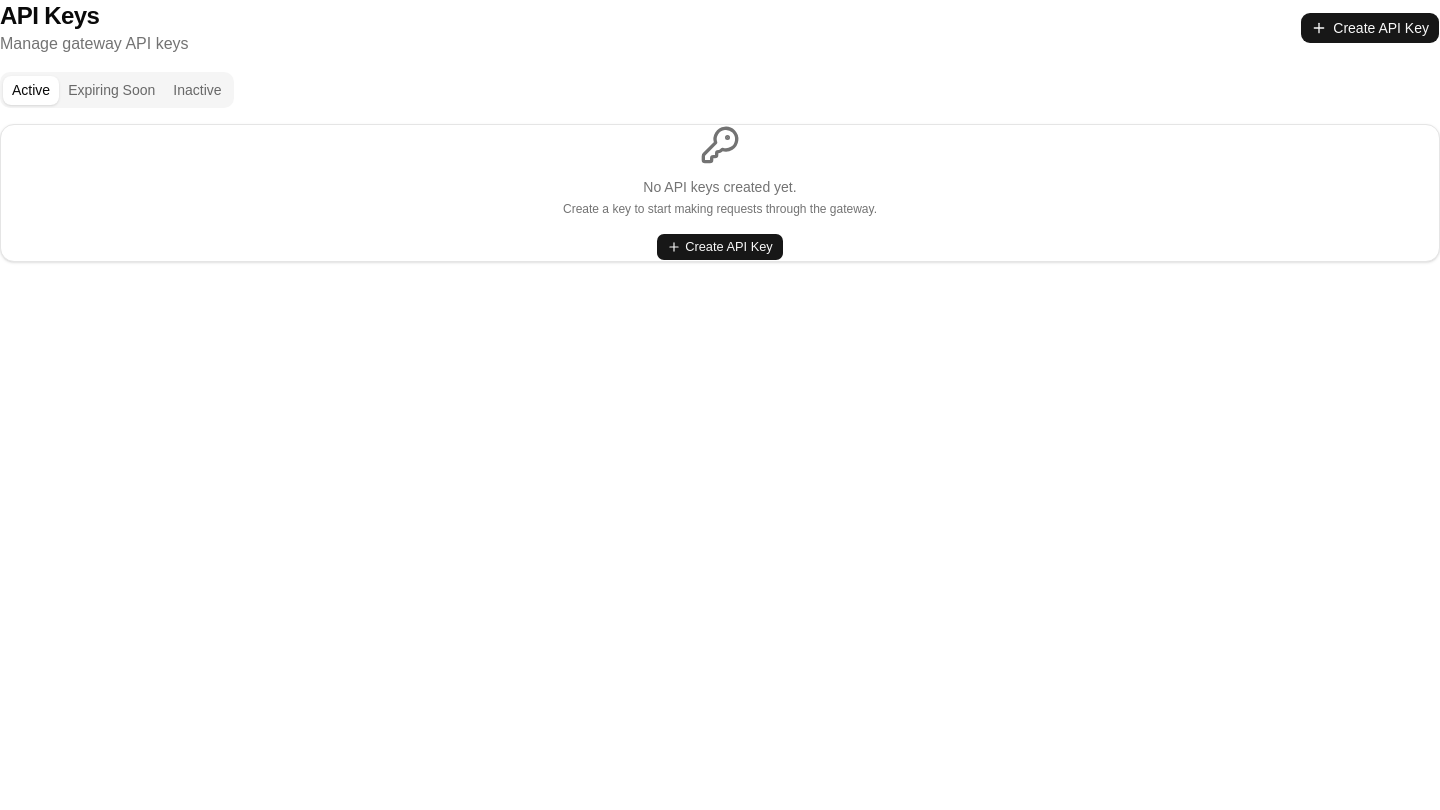
Test case: ApiKeysPage › create key dialog opens on button click
The width and height of the screenshot is (1440, 810).
Click the button "Create API Key" in the row of "Manage gateway API keys" at (1370, 28), box [1300, 12, 1439, 44]
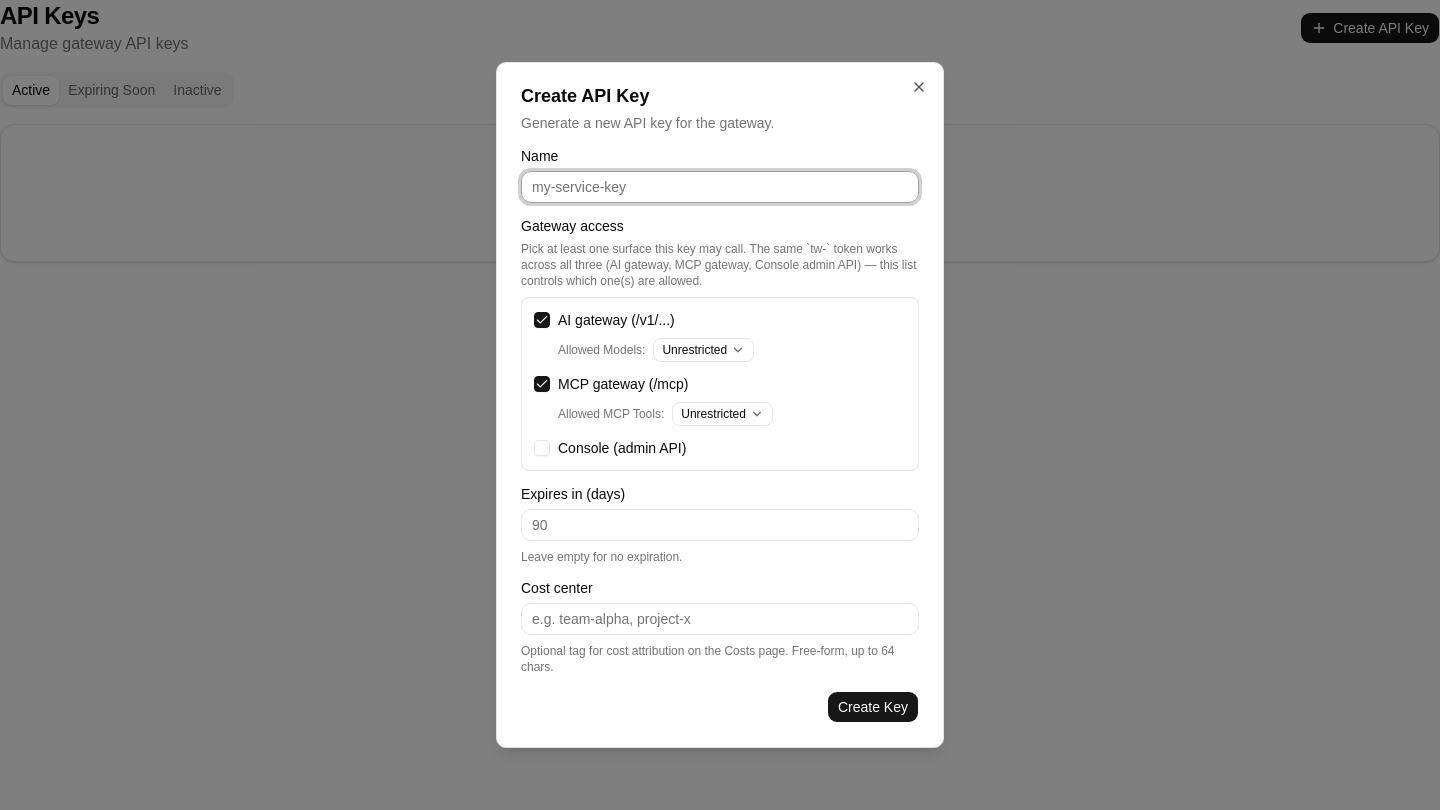
Expected: the text "Generate a new API key for the gateway." is shown, [521, 115, 774, 131]
